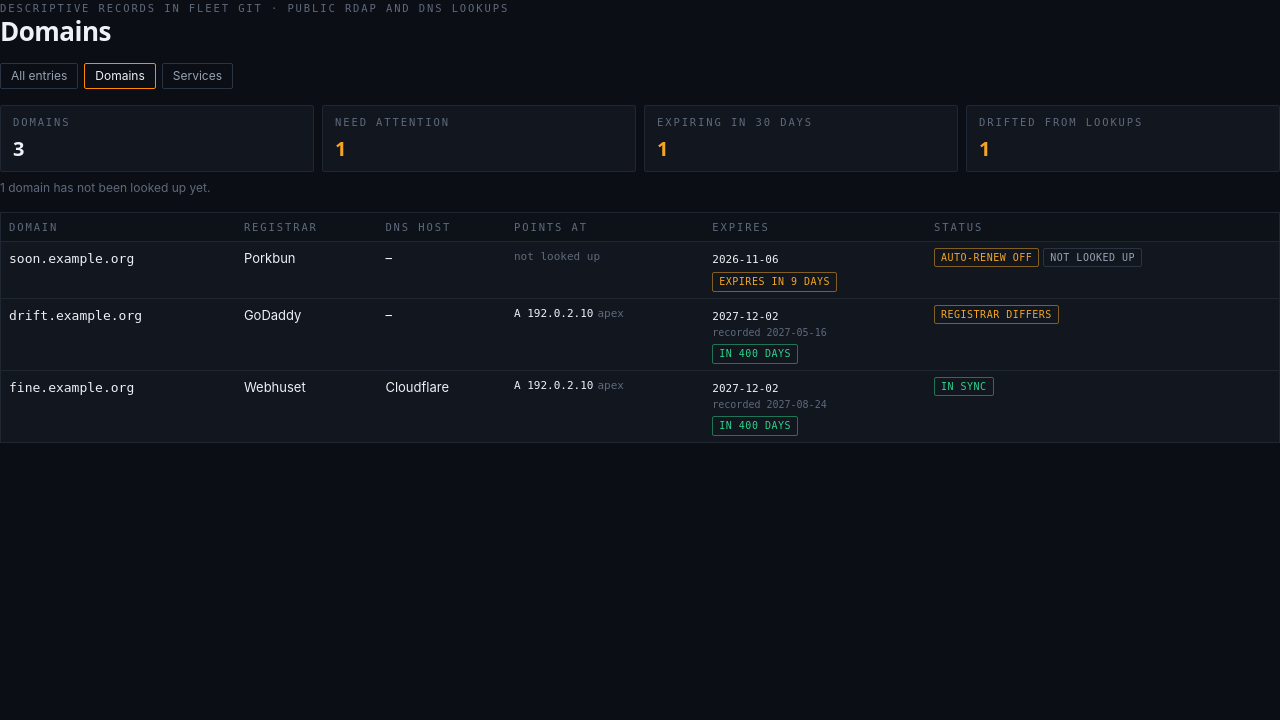
it: Domains view › shows drift, expiry warnings and the suggested patch command
Expected: the row with test id "domain-soon.example.org" shows "Expires in 9 days", [719,276,830,287]
Expected: the row with test id "domain-soon.example.org" shows "auto-renew off", [941,252,1032,263]
Click the row with test id "domain-drift.example.org" at (640, 334), box [0,298,1279,370]
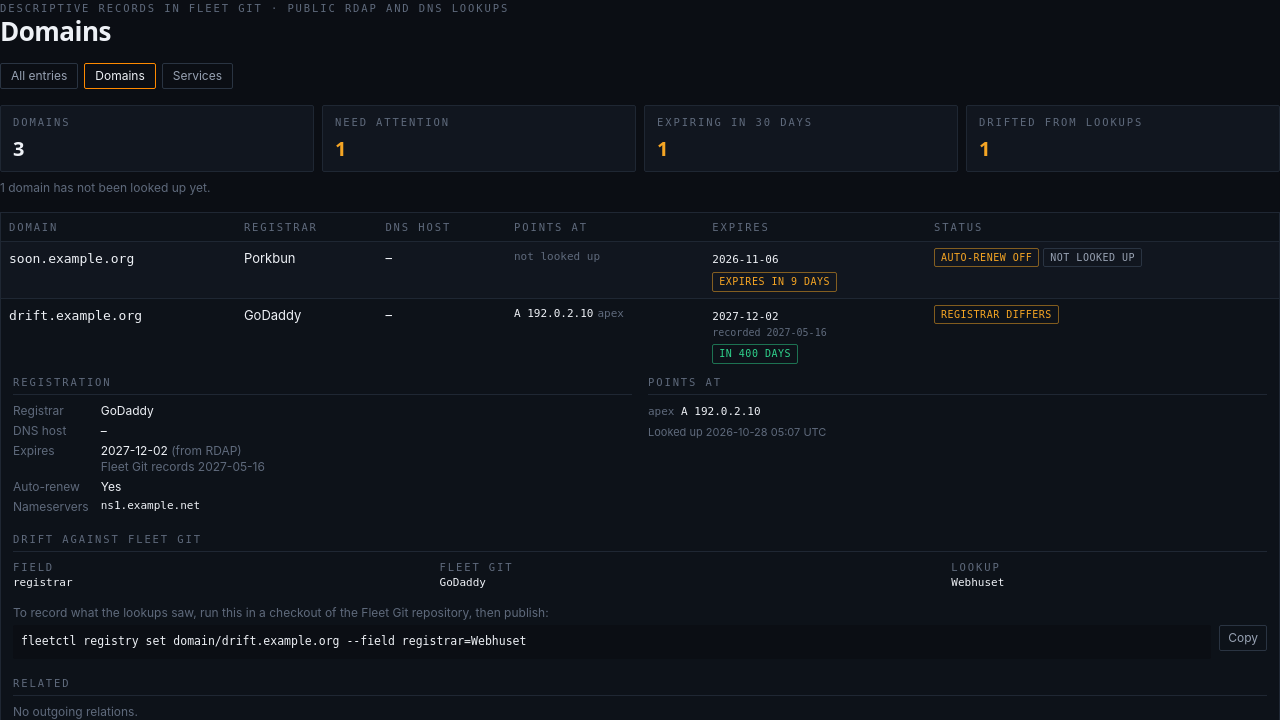
Expected: the row with test id "domain-detail-drift.example.org" shows "GoDaddy", [101,403,154,418]
Expected: the row with test id "domain-detail-drift.example.org" shows "Webhuset", [951,576,1004,589]
Expected: the text with test id "suggest-command" reads "fleetctl registry set domain/drift.example.org --field registrar=Webhuset", [21,634,526,648]
